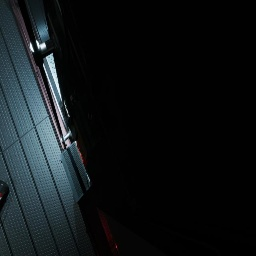EmergencyPhone ,: (68, 107, 89, 162)
FireAlarm ,: (76, 141, 88, 166)
FireExtinguisher ]: (0, 180, 9, 205)
